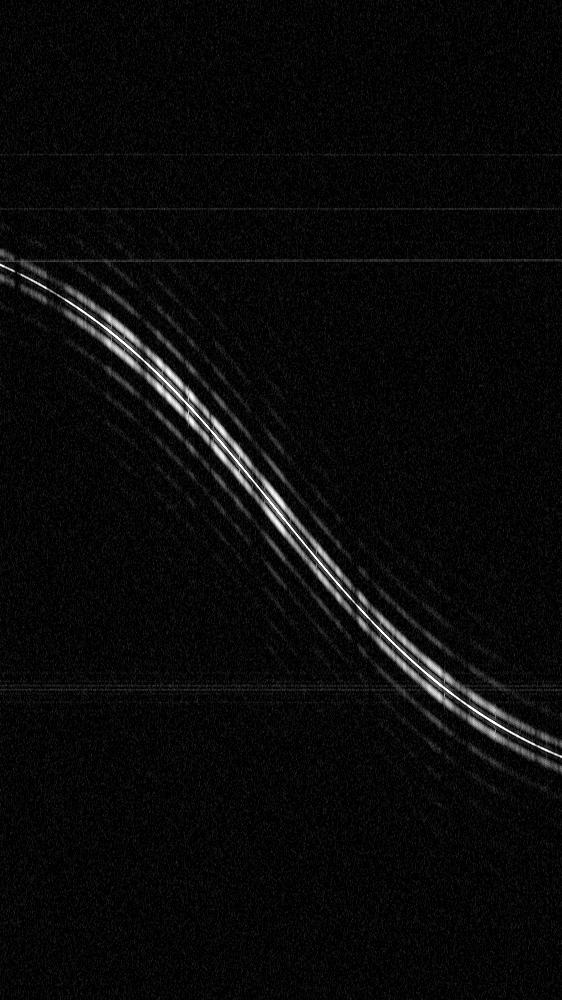signal: (0, 0, 561, 999)
